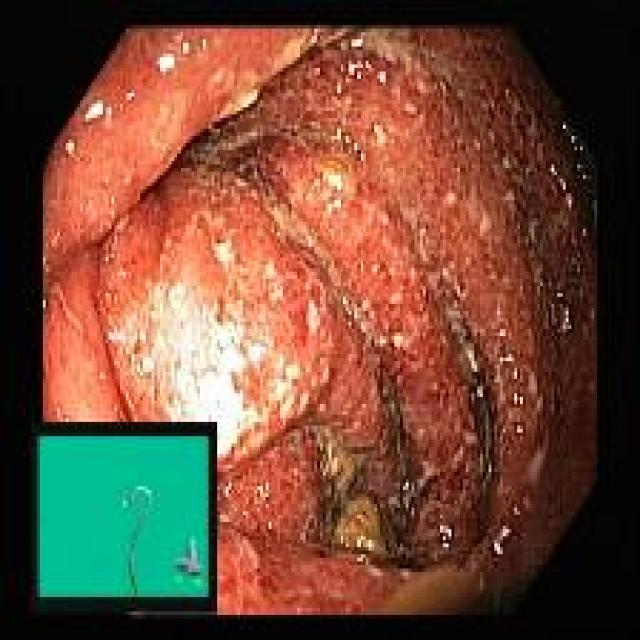ulcerative-colitis: (45, 30, 596, 614)
